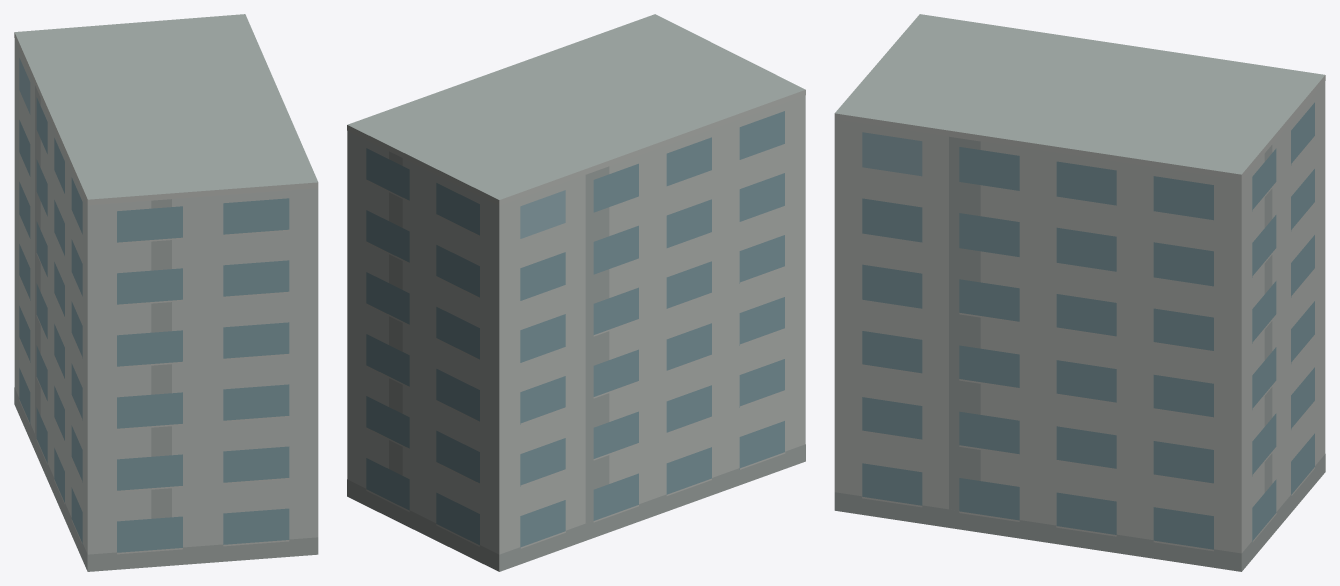
File: survey-upis-32891009.glb
3 renders of one model, left to right at view 1: azimuth 30°, elevation 25°; view 2: azimuth 150°, elevation 25°; view 3: azimuth 270°, elevation 25°, orthographic. The views are drawn at different scales.
Visible parts, largest first — view 1: survey-upis-32891009.tmp; view 2: survey-upis-32891009.tmp; view 3: survey-upis-32891009.tmp.
Boxes of the visible parts, bbox=[...] form: survey-upis-32891009.tmp: bbox=[14, 14, 318, 571]; survey-upis-32891009.tmp: bbox=[347, 14, 805, 571]; survey-upis-32891009.tmp: bbox=[834, 14, 1325, 571].
Bounding box in the file's own units: 13.62 × 15.7 × 17.59.
